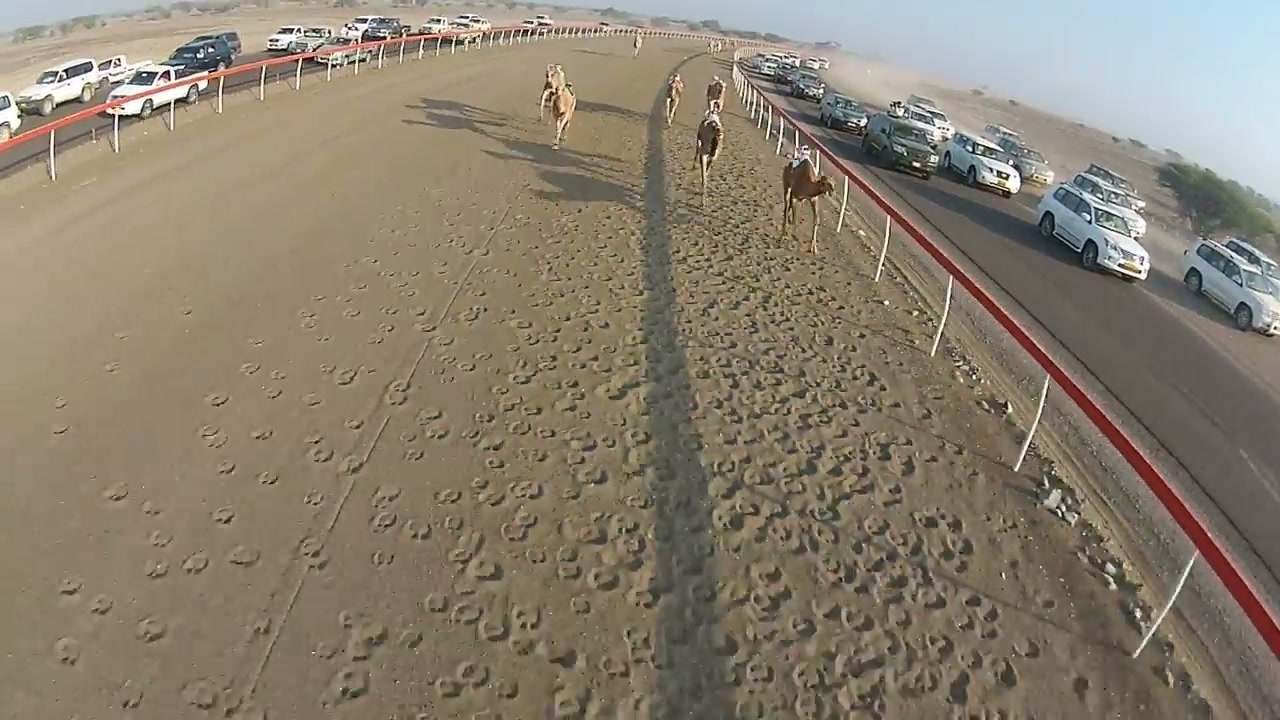animal_foot_print: (29, 82, 1196, 717)
